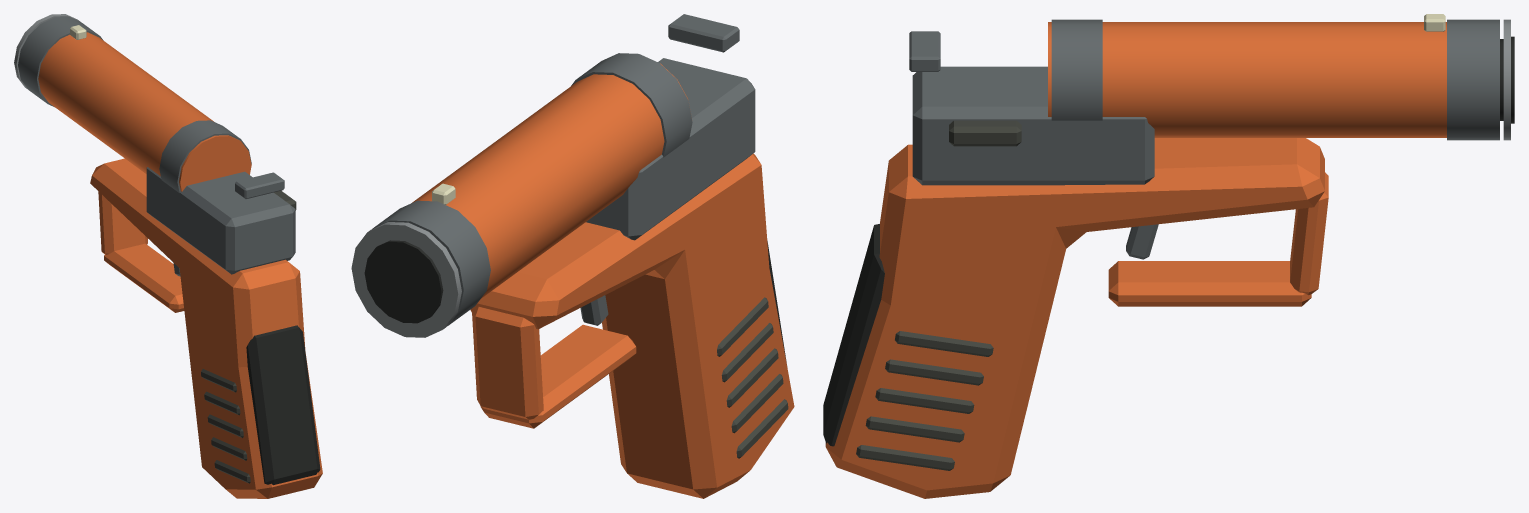
File: flaregun.glb
3 views of the same model, side by side, from view 1: azimuth 30°, elevation 25°; view 2: azimuth 150°, elevation 25°; view 3: azimuth 270°, elevation 25° (orthographic). The views are drawn at different scales.
Parts seen in each view (by area): view 1: Weathered rescue orange, Weathered rescue orange.001, Parkerized steel, Black rubber, Parkerized steel.001, Weathered polymer, Worn steel; view 2: Weathered rescue orange, Weathered rescue orange.001, Parkerized steel, Parkerized steel.001, Black rubber.001, Worn steel, Weathered polymer; view 3: Weathered rescue orange, Weathered rescue orange.001, Parkerized steel, Parkerized steel.001, Weathered polymer, Black rubber, Worn steel.
Boxes of the visible parts, x1,y1,x2,y2 form: Weathered rescue orange: (90,158,322,498); Weathered rescue orange.001: (38,32,251,191); Parkerized steel: (146,167,295,276); Black rubber: (246,325,320,485); Parkerized steel.001: (18,17,251,192); Weathered polymer: (201,190,296,483); Worn steel: (14,14,80,89); Weathered rescue orange: (470,153,794,498); Weathered rescue orange.001: (412,63,688,298); Parkerized steel: (580,14,755,325); Parkerized steel.001: (372,53,692,326); Black rubber.001: (364,240,443,323); Worn steel: (351,222,461,337); Weathered polymer: (717,297,788,458); Weathered rescue orange: (825,138,1328,498); Weathered rescue orange.001: (1048,22,1446,137); Parkerized steel: (909,31,1158,259); Parkerized steel.001: (1051,19,1499,140); Weathered polymer: (856,120,1021,470); Black rubber: (823,224,884,446); Worn steel: (1503,19,1510,140).
Size of the model in its own units: 0.0565 by 0.213 by 0.286.
